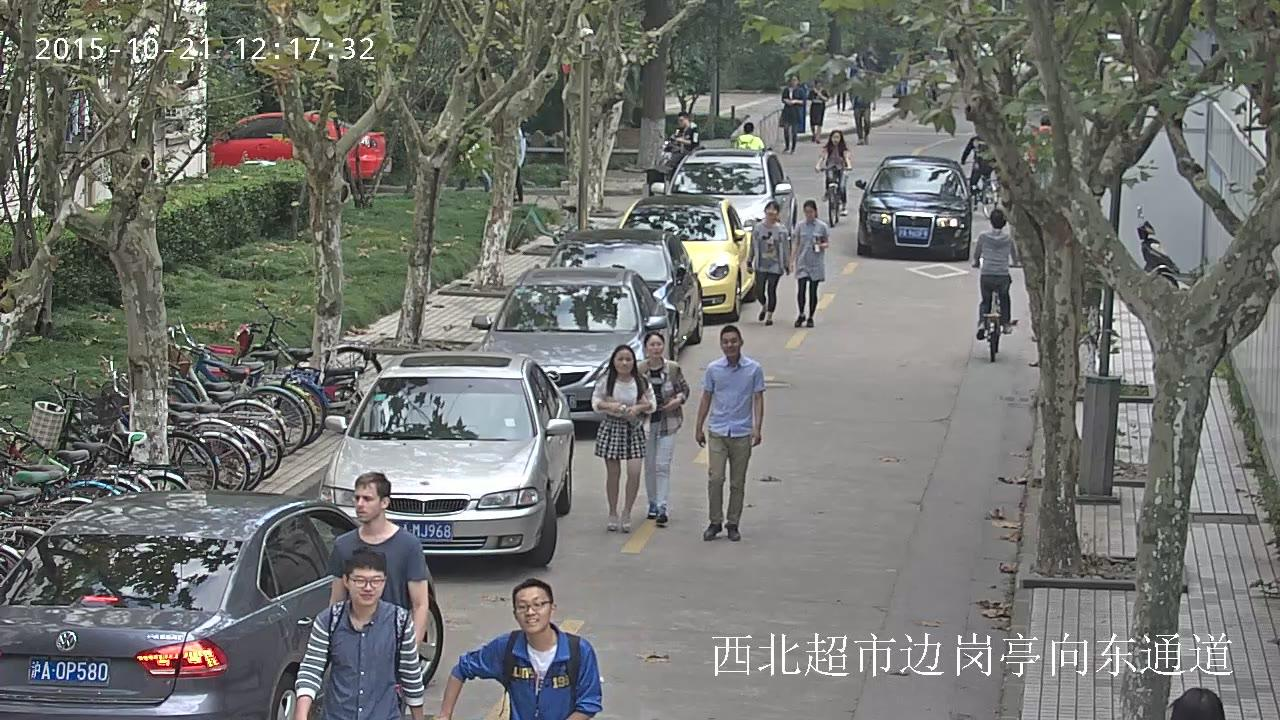person: (325, 471, 429, 720), (432, 579, 601, 720), (295, 545, 423, 720), (696, 324, 766, 540), (591, 344, 656, 533), (636, 330, 690, 528), (972, 208, 1019, 362), (972, 208, 1018, 339), (746, 200, 790, 325), (792, 200, 829, 327), (654, 110, 704, 185), (814, 129, 852, 226), (959, 124, 998, 218), (815, 130, 851, 216), (960, 124, 997, 201), (778, 74, 805, 153), (849, 68, 876, 144), (672, 111, 699, 179), (808, 79, 828, 145), (733, 122, 764, 149)
